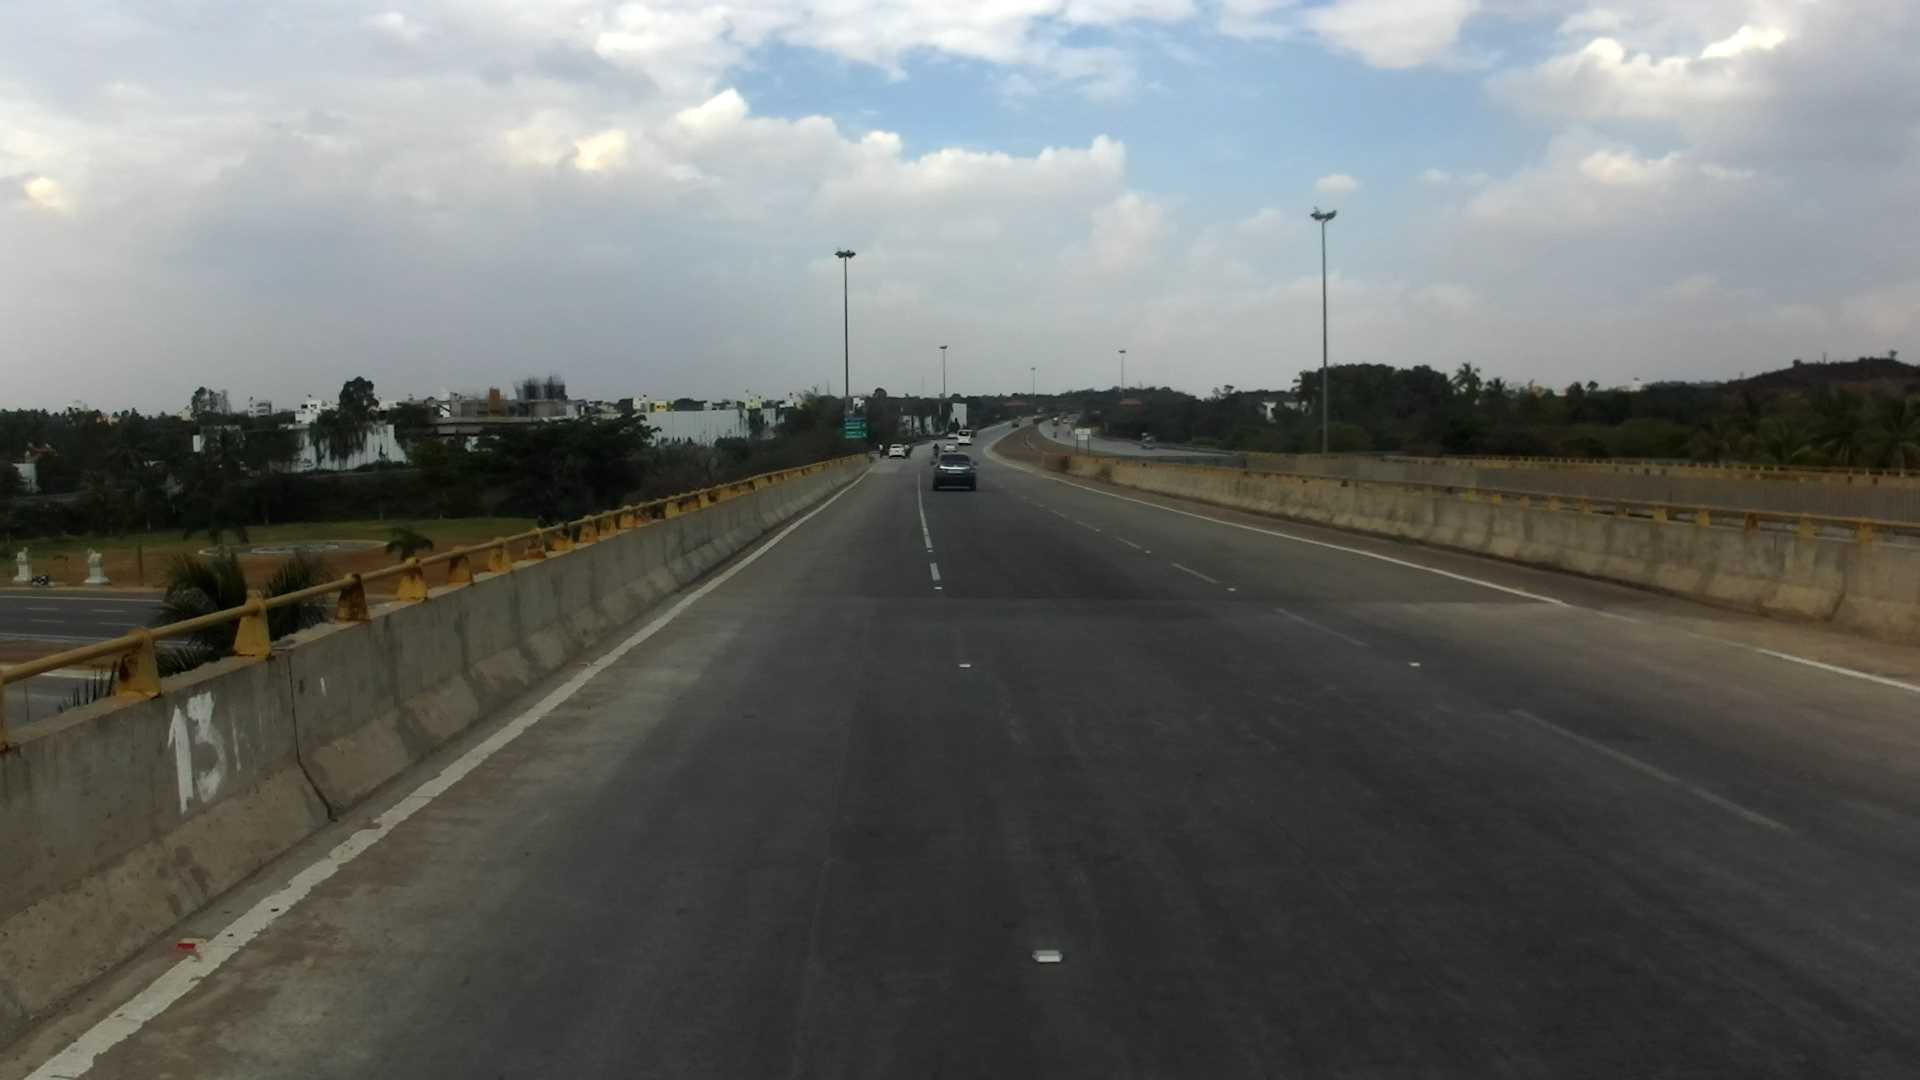car: (933, 447, 986, 496), (878, 434, 919, 471), (947, 415, 980, 448)
